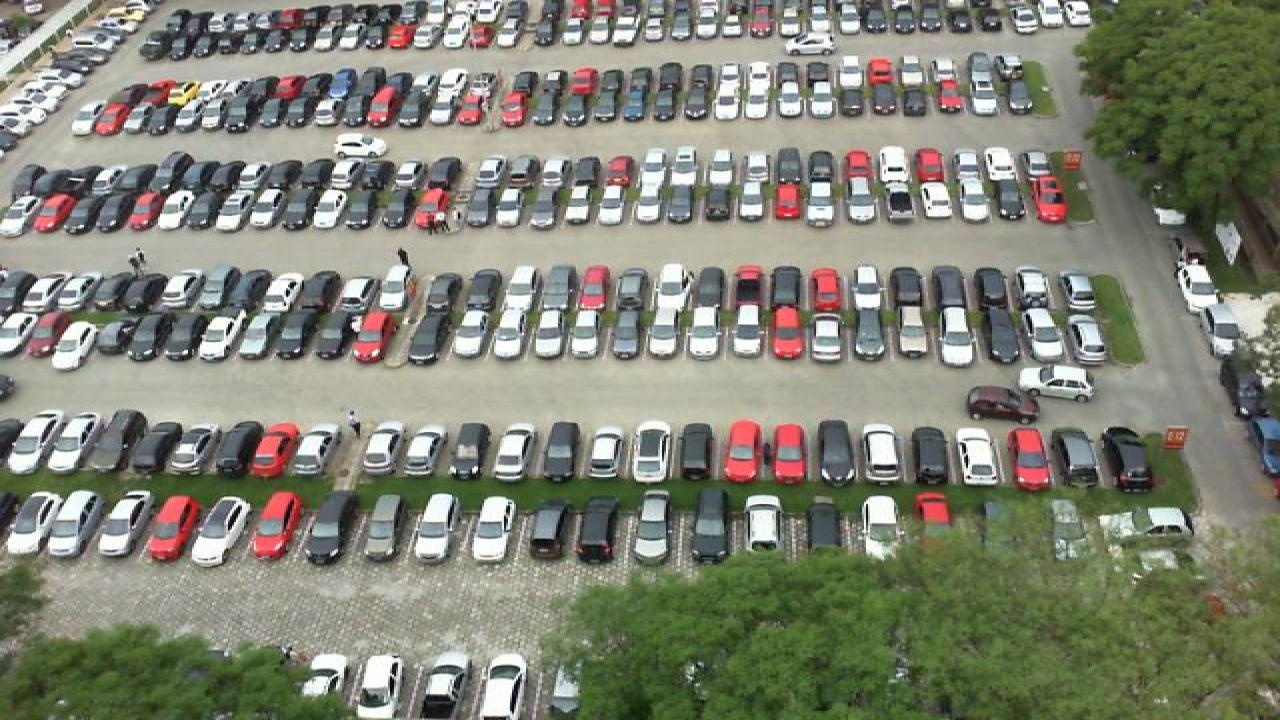Car: (190, 494, 250, 566), (96, 489, 150, 559), (414, 650, 468, 720), (474, 650, 528, 720), (1102, 425, 1156, 494), (146, 493, 200, 561), (252, 490, 302, 562), (306, 490, 354, 562), (354, 651, 404, 719), (688, 487, 732, 564), (6, 409, 58, 474), (40, 490, 92, 554), (46, 408, 98, 470), (2, 488, 52, 552), (962, 385, 1042, 425), (94, 409, 144, 472), (574, 496, 620, 564), (954, 426, 1004, 488), (1052, 426, 1102, 487), (1004, 426, 1052, 489), (634, 489, 676, 560), (214, 420, 266, 477), (1018, 364, 1096, 402), (364, 492, 404, 564), (630, 420, 676, 482), (420, 491, 460, 562), (402, 421, 450, 480), (254, 421, 304, 477), (358, 420, 406, 478), (302, 650, 354, 703), (858, 422, 902, 484), (978, 304, 1022, 366), (134, 420, 184, 474), (814, 419, 856, 483), (526, 499, 570, 560), (450, 420, 494, 481), (350, 307, 396, 365), (542, 420, 584, 483), (474, 495, 514, 561), (742, 494, 784, 556), (934, 306, 976, 368), (908, 426, 952, 485), (1064, 308, 1110, 364), (296, 419, 340, 477), (498, 420, 538, 482), (676, 420, 716, 482), (722, 420, 762, 482), (850, 302, 890, 364), (1022, 308, 1064, 366), (860, 492, 898, 556), (802, 497, 842, 557), (768, 422, 808, 482), (172, 423, 218, 475), (892, 304, 932, 363), (586, 425, 626, 483), (914, 490, 956, 544), (406, 310, 448, 364), (810, 304, 848, 363), (528, 305, 568, 361), (728, 305, 766, 362), (646, 305, 684, 360), (608, 307, 646, 361), (768, 305, 804, 361), (450, 307, 488, 360), (492, 307, 530, 360), (688, 305, 724, 360), (570, 306, 602, 360)
